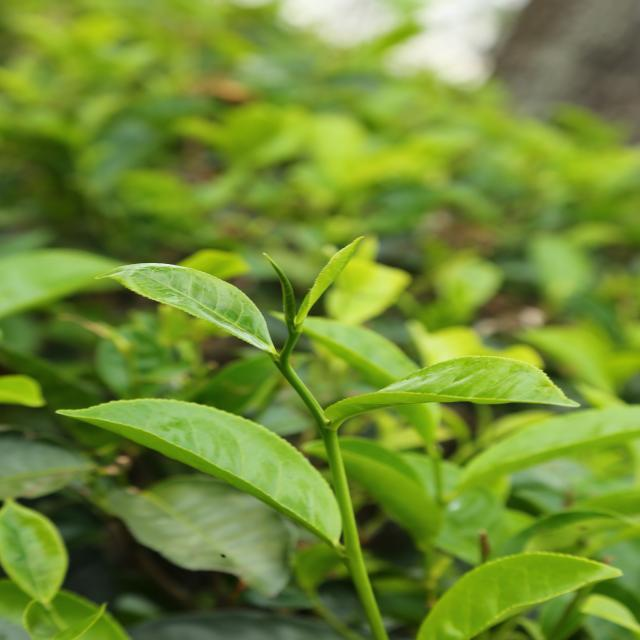Stem: (285, 336, 299, 349)
